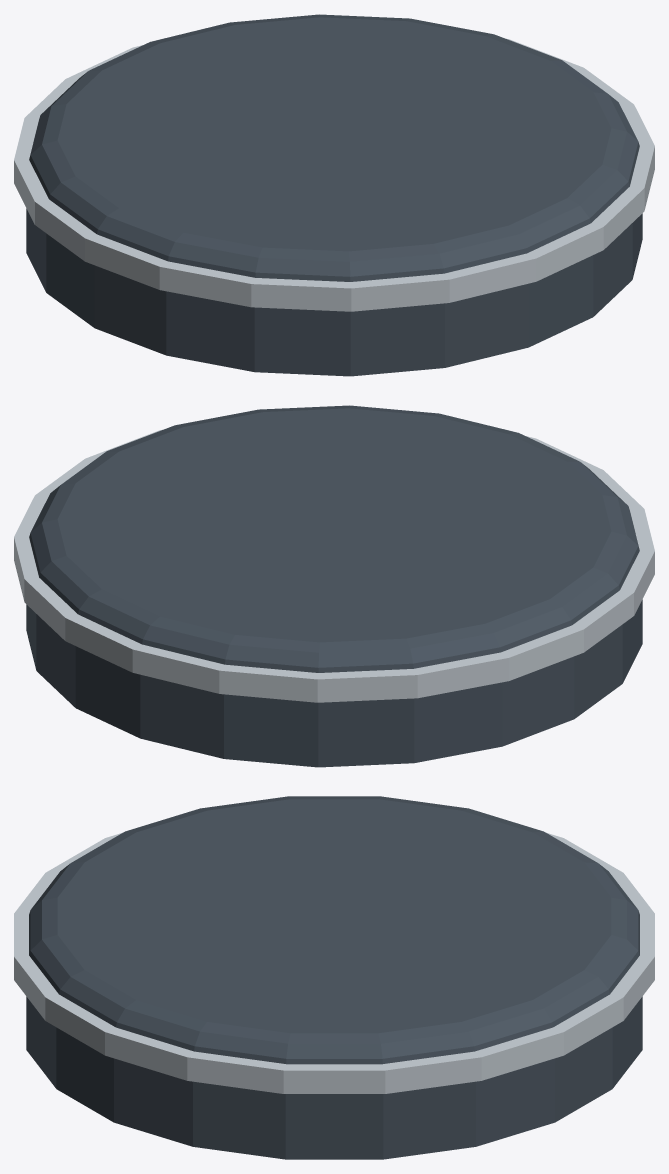
File: Plate_LatchBase.gltf
The picture shows the model from 3 angles, top to bottom: view 1: azimuth 30°, elevation 25°; view 2: azimuth 150°, elevation 25°; view 3: azimuth 270°, elevation 25°; orthographic projection.
Parts seen in each view (by area): view 1: Plate_LatchBase_baked; view 2: Plate_LatchBase_baked; view 3: Plate_LatchBase_baked.
Boxes of the visible parts, x1=… form: Plate_LatchBase_baked: x1=14, y1=14, x2=654, y2=376; Plate_LatchBase_baked: x1=14, y1=405, x2=654, y2=767; Plate_LatchBase_baked: x1=14, y1=796, x2=654, y2=1159.
Size of the model in its own units: 0.6163 by 0.12 by 0.6163.
